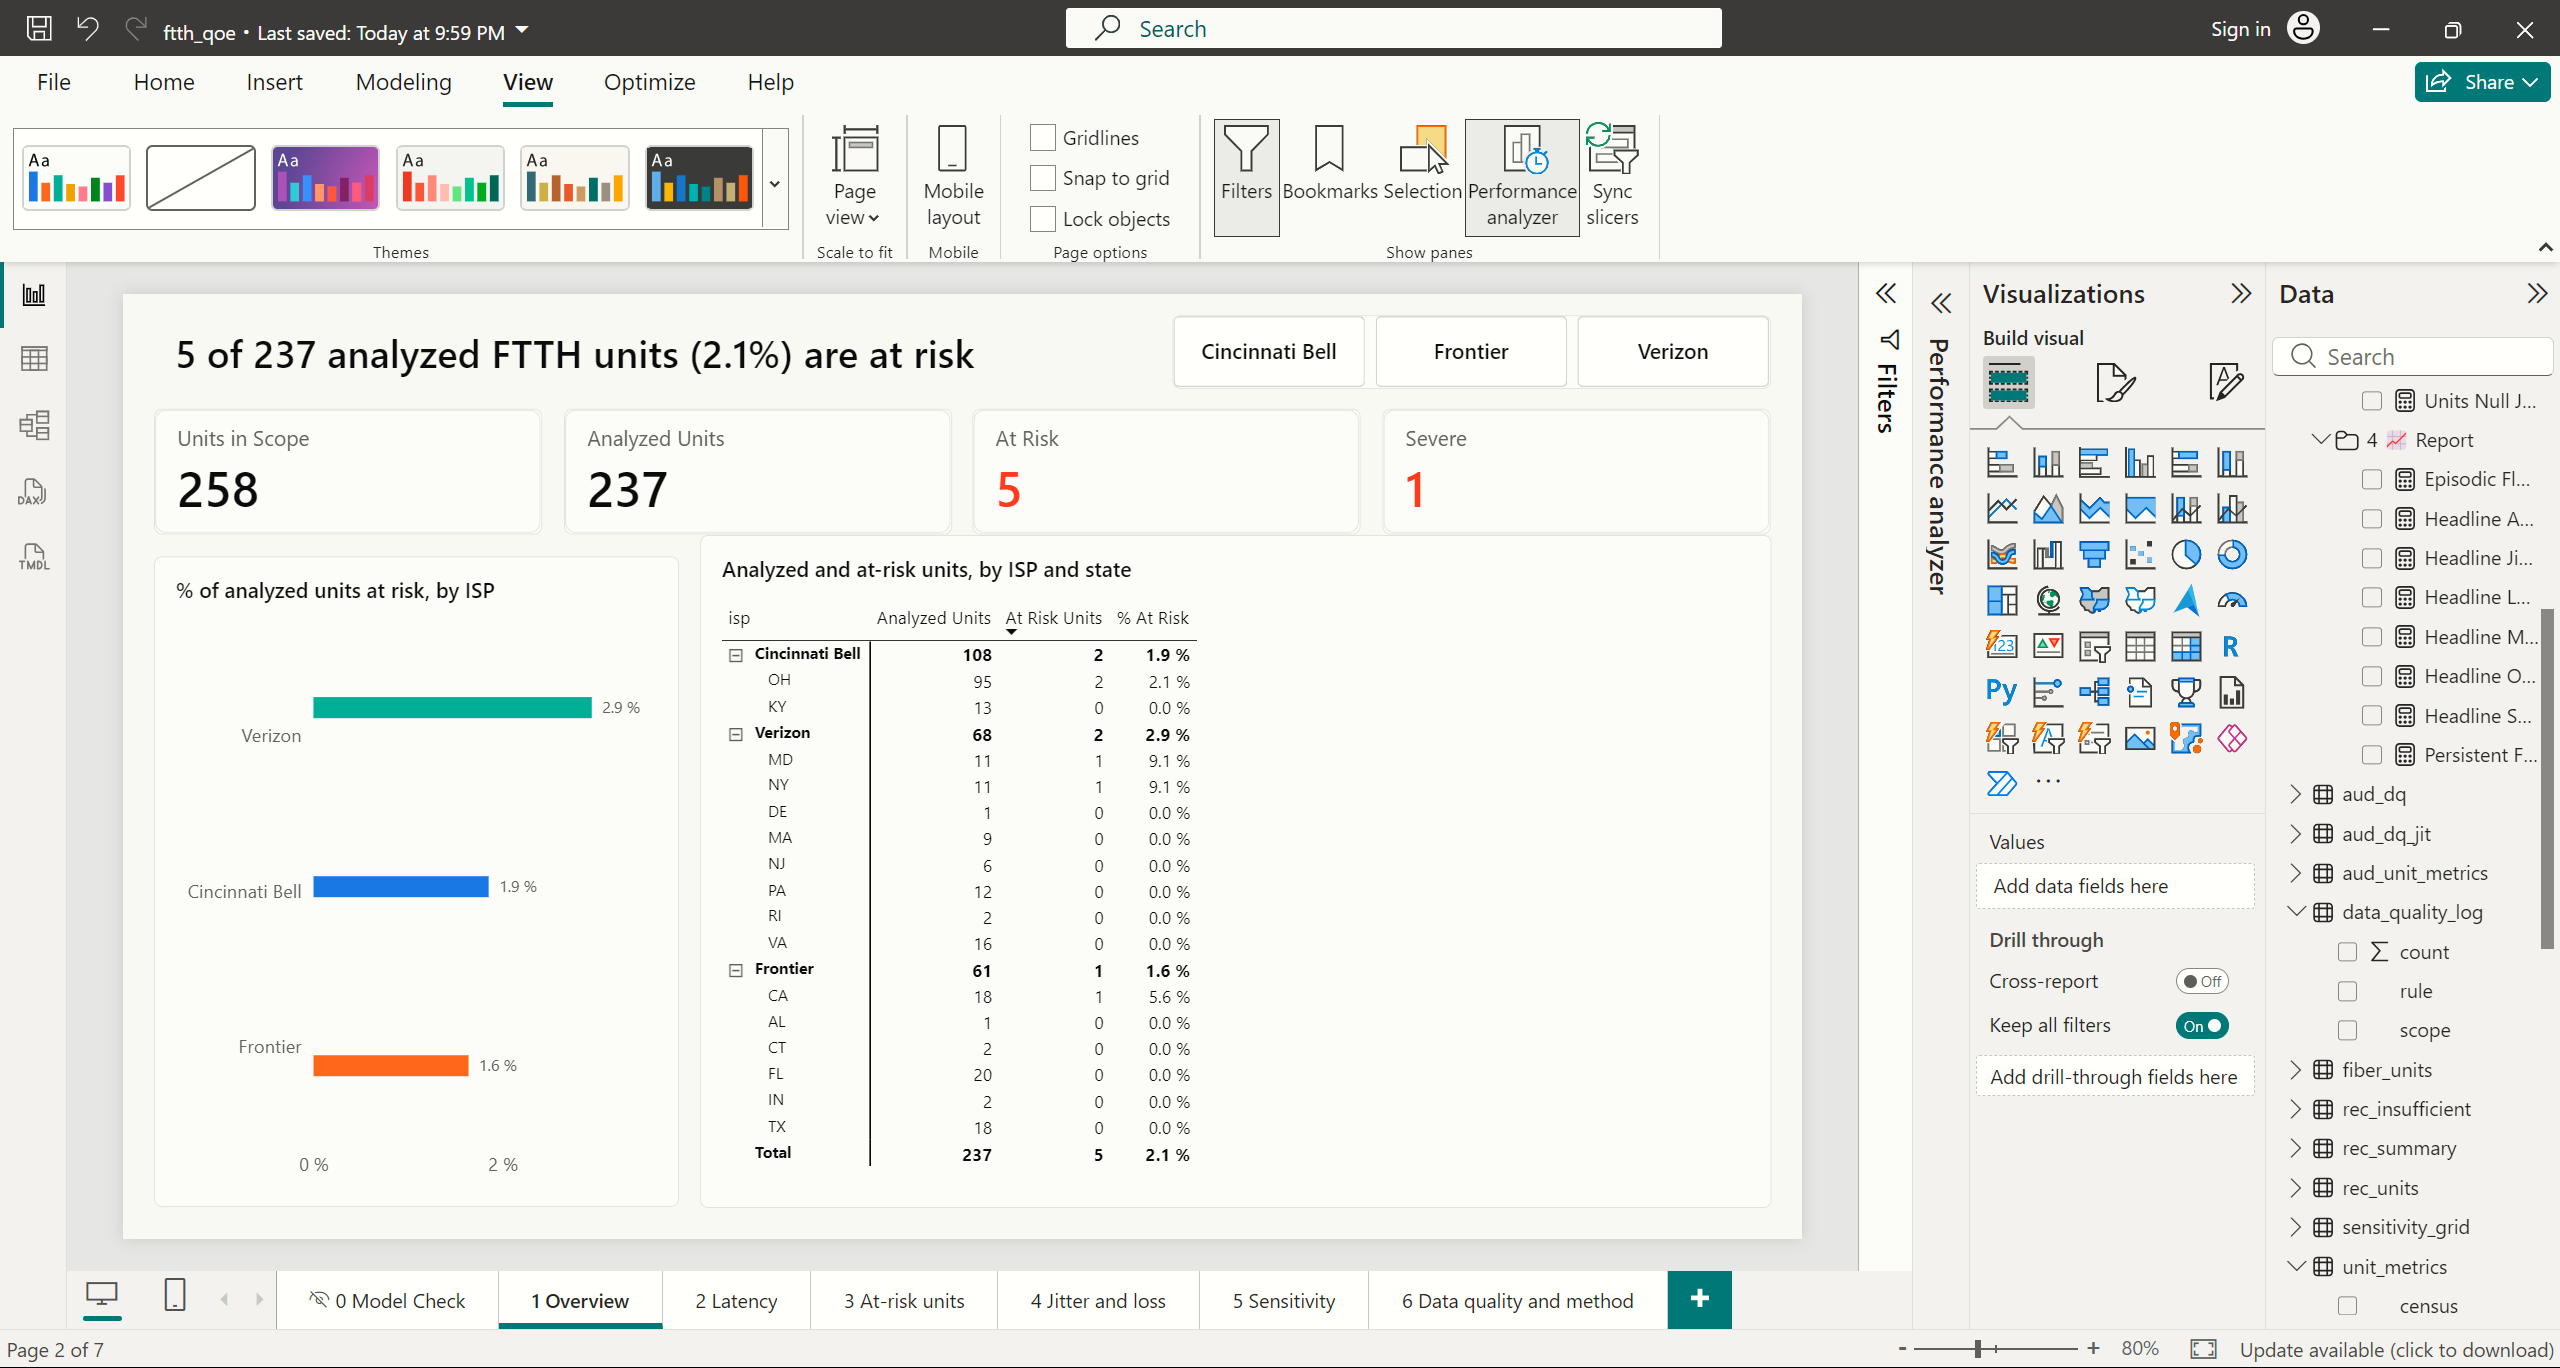

Layout of this report page (visuals, bound fields, positions):
{"tool":"powerbi","page":{"name":"1 Overview","canvas":[1280,720],"ordinal":1},"visuals":[{"type":"cardVisual","fields":{"Data":["_Measures.Headline Overview"]},"box":[24,16,760,56],"z":0},{"type":"cardVisual","fields":{"Data":["_Measures.Population Units"]},"box":[24,88,296,96],"z":1000},{"type":"cardVisual","fields":{"Data":["_Measures.Analyzed Units"]},"box":[336,88,296,96],"z":2000},{"type":"cardVisual","fields":{"Data":["_Measures.At Risk Units"]},"box":[648,88,296,96],"z":3000},{"type":"cardVisual","fields":{"Data":["_Measures.Severe Units"]},"box":[960,88,296,96],"z":4000},{"type":"advancedSlicerVisual","fields":{"Values":["unit_metrics.isp"]},"box":[800,16,456,56],"z":5000},{"type":"clusteredBarChart","title":"% of analyzed units at risk, by ISP","fields":{"Category":["unit_metrics.isp"],"Series":["unit_metrics.isp"],"Y":["_Measures.% At Risk"]},"box":[24,200,400,496],"z":6000},{"type":"pivotTable","title":"Analyzed and at-risk units, by ISP and state","fields":{"Rows":["unit_metrics.ISP -> State.isp","unit_metrics.ISP -> State.state"],"Values":["_Measures.Analyzed Units","_Measures.At Risk Units","_Measures.% At Risk"]},"box":[440,183.8,816.2,512.5],"z":7000}]}

Visuals, with their boxes on the page's 1280x720 design canvas (x1, y1, x2, y2). These are canvas units, not pixel positions in the 2560x1368 screenshot, which may show the page scaled, cropped or inside an application window:
cardVisual - _Measures.Headline Overview: select_region(24, 16, 784, 72)
cardVisual - _Measures.Population Units: select_region(24, 88, 320, 184)
cardVisual - _Measures.Analyzed Units: select_region(336, 88, 632, 184)
cardVisual - _Measures.At Risk Units: select_region(648, 88, 944, 184)
cardVisual - _Measures.Severe Units: select_region(960, 88, 1256, 184)
advancedSlicerVisual - unit_metrics.isp: select_region(800, 16, 1256, 72)
"% of analyzed units at risk, by ISP" clusteredBarChart: select_region(24, 200, 424, 696)
"Analyzed and at-risk units, by ISP and state" pivotTable: select_region(440, 184, 1256, 696)
